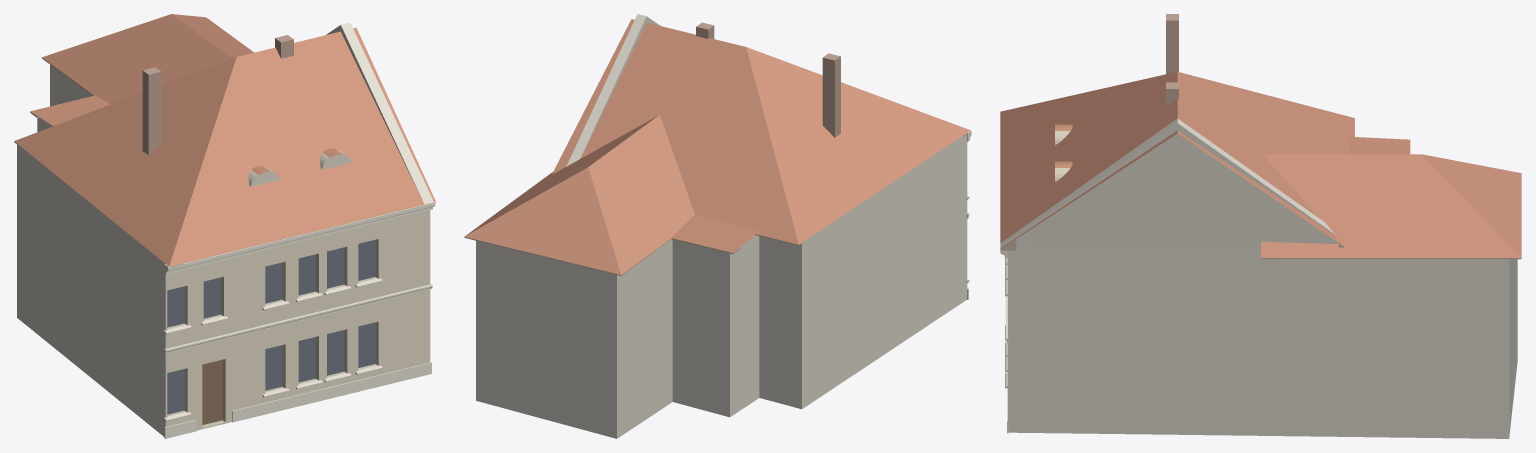
3 renders of one model, left to right at view 1: azimuth 30°, elevation 25°; view 2: azimuth 150°, elevation 25°; view 3: azimuth 270°, elevation 25°, orthographic. The views are drawn at different scales.
Parts seen in each view (by area): view 1: CP_251_Masonry, CP_251_Roof, CP_251_WingRoof_Rear_Store, CP_251_Cornice_plinth_1, CP_251_Gable_R_firewall, CP_251_Cornice_main_0, CP_251_Chimney_0, CP_251_Cornice_string_0, CP_251_WingRoof_Annex_WC, CP_251_Dormer_O1, CP_251_Dormer_O2, CP_251_Cornice_plinth_0; view 2: CP_251_Masonry, CP_251_Roof, CP_251_WingRoof_Rear_Store, CP_251_Gable_R_firewall, CP_251_WingRoof_Annex_WC, CP_251_Chimney_0; view 3: CP_251_Masonry, CP_251_Roof, CP_251_WingRoof_Rear_Store, CP_251_AtticClosure, CP_251_Gable_R_firewall, CP_251_WingRoof_Annex_WC, CP_251_Chimney_0.
Boxes of the visible parts, x1,y1,x2,y2 form: CP_251_Masonry: (17,64,430,436); CP_251_Roof: (14,27,435,266); CP_251_WingRoof_Rear_Store: (42,14,253,104); CP_251_Cornice_plinth_1: (232,362,431,422); CP_251_Gable_R_firewall: (326,22,433,204); CP_251_Cornice_main_0: (164,202,435,274); CP_251_Chimney_0: (142,67,161,155); CP_251_Cornice_string_0: (164,284,432,353); CP_251_WingRoof_Annex_WC: (30,95,110,125); CP_251_Dormer_O1: (248,166,279,187); CP_251_Dormer_O2: (320,148,351,169); CP_251_Cornice_plinth_0: (164,420,196,438); CP_251_Masonry: (476,133,967,438); CP_251_Roof: (552,19,970,244); CP_251_WingRoof_Rear_Store: (464,115,694,274); CP_251_Gable_R_firewall: (566,14,660,166); CP_251_WingRoof_Annex_WC: (671,214,760,252); CP_251_Chimney_0: (822,53,840,137); CP_251_Masonry: (1008,248,1517,438); CP_251_Roof: (1000,71,1354,248); CP_251_WingRoof_Rear_Store: (1261,154,1521,257); CP_251_AtticClosure: (1029,133,1338,251); CP_251_Gable_R_firewall: (1000,118,1334,248); CP_251_WingRoof_Annex_WC: (1350,136,1410,154); CP_251_Chimney_0: (1166,14,1178,74).
Size of the model in its own units: 13.32 by 13.2 by 20.
